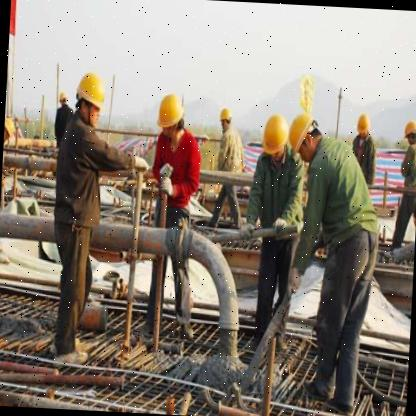capacete: (284, 108, 318, 160), (74, 69, 108, 113), (259, 110, 290, 157), (153, 89, 187, 131), (354, 110, 370, 138), (218, 102, 234, 126), (400, 118, 416, 139)
